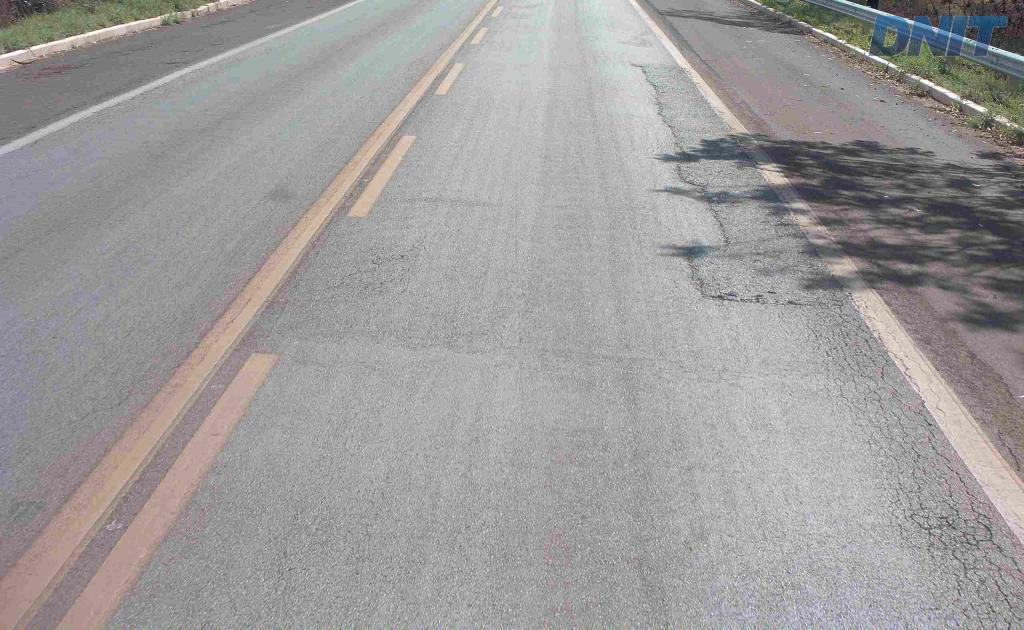crack: (957, 502, 1006, 557)
